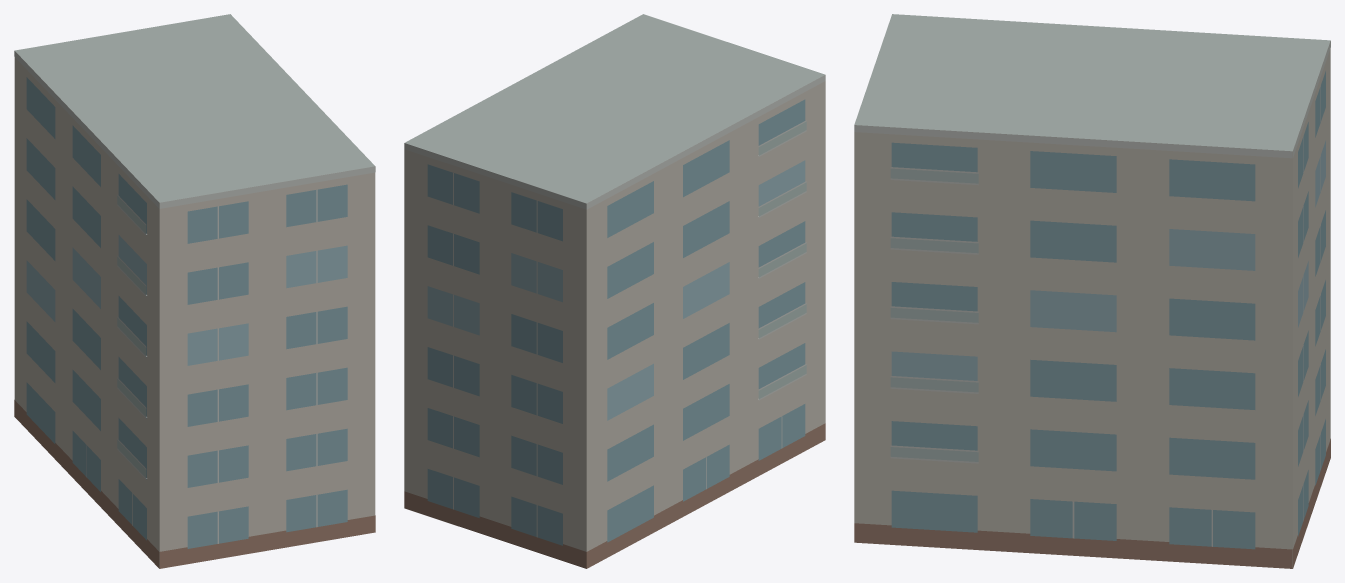
Rendered from survey-upis-32894263.glb.
3 views of the same model, side by side, from view 1: azimuth 30°, elevation 25°; view 2: azimuth 150°, elevation 25°; view 3: azimuth 270°, elevation 25° (orthographic). The views are drawn at different scales.
Visible parts, largest first — view 1: survey-upis-32894263.tmp; view 2: survey-upis-32894263.tmp; view 3: survey-upis-32894263.tmp.
Part boxes in pixels (bbox=[...]): survey-upis-32894263.tmp: bbox=[14, 14, 375, 568]; survey-upis-32894263.tmp: bbox=[404, 14, 825, 568]; survey-upis-32894263.tmp: bbox=[854, 14, 1330, 568].
Size of the model in its own units: 10.16 by 14.4 by 14.9.
